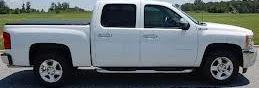backlight: (3, 31, 14, 51)
headlight: (244, 31, 256, 51)
side_glass: (99, 2, 190, 33)
